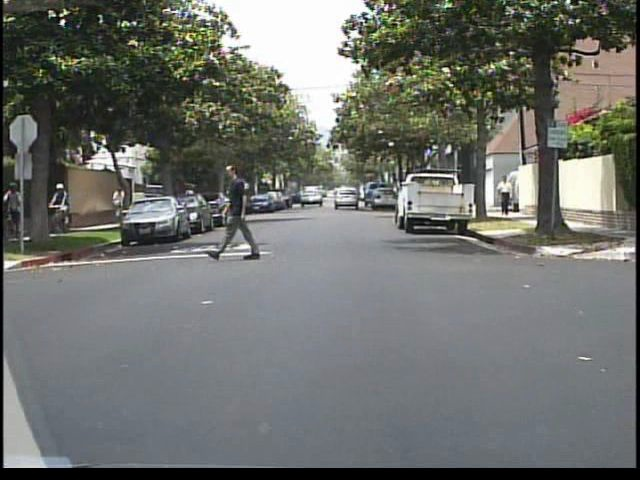person: (212, 157, 263, 265), (2, 179, 28, 241), (110, 182, 132, 225), (495, 174, 516, 218), (50, 178, 73, 209), (181, 181, 199, 220)
